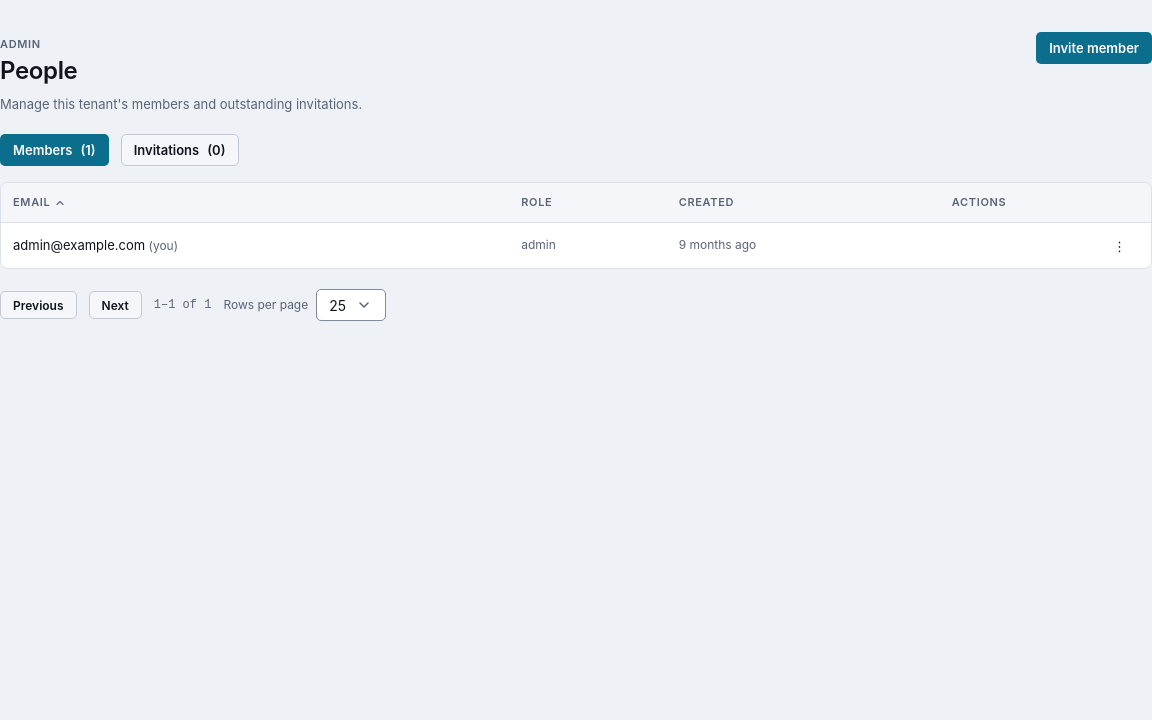
Scenario: PeoplePage › surfaces a legible reason when demoting the last admin is refused, guessing nothing client-side
Check: the text "admin@example.com" is shown, box x1=13 y1=237 x2=145 y2=253
Step 1. Click the button named "Actions for admin@example.com" → point(1120, 246), box x1=1100 y1=232 x2=1139 y2=260
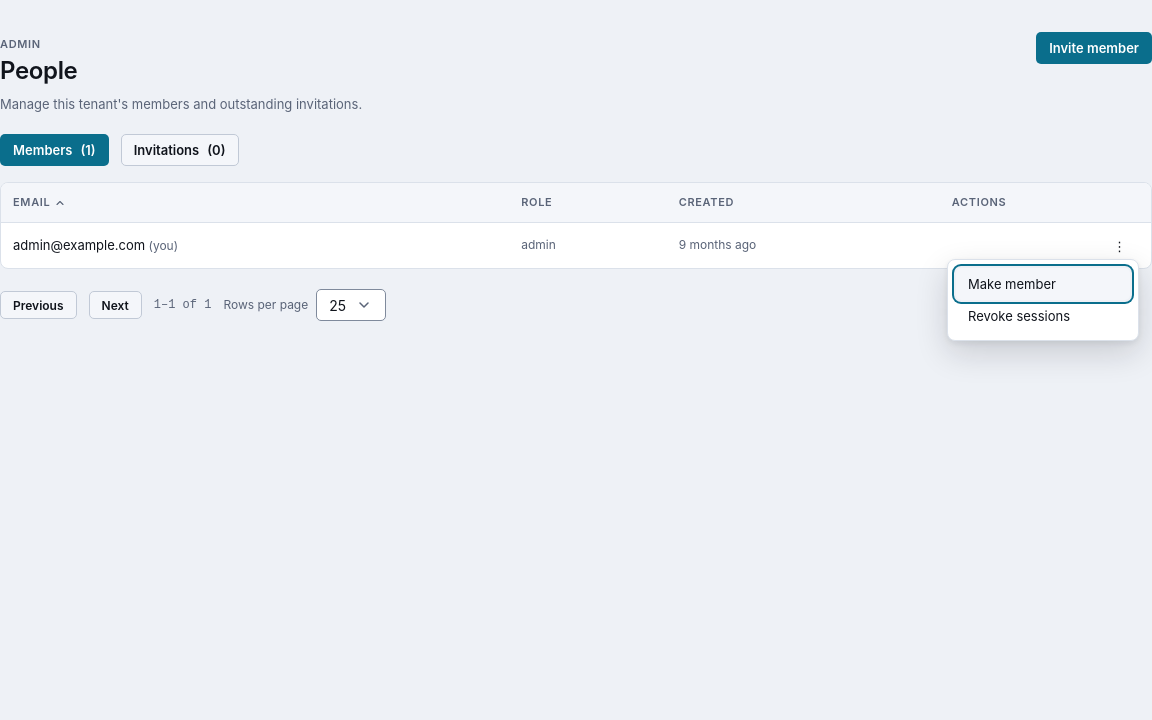
Step 2. Click the menu item "Make member" → point(1043, 284), box x1=956 y1=268 x2=1130 y2=300
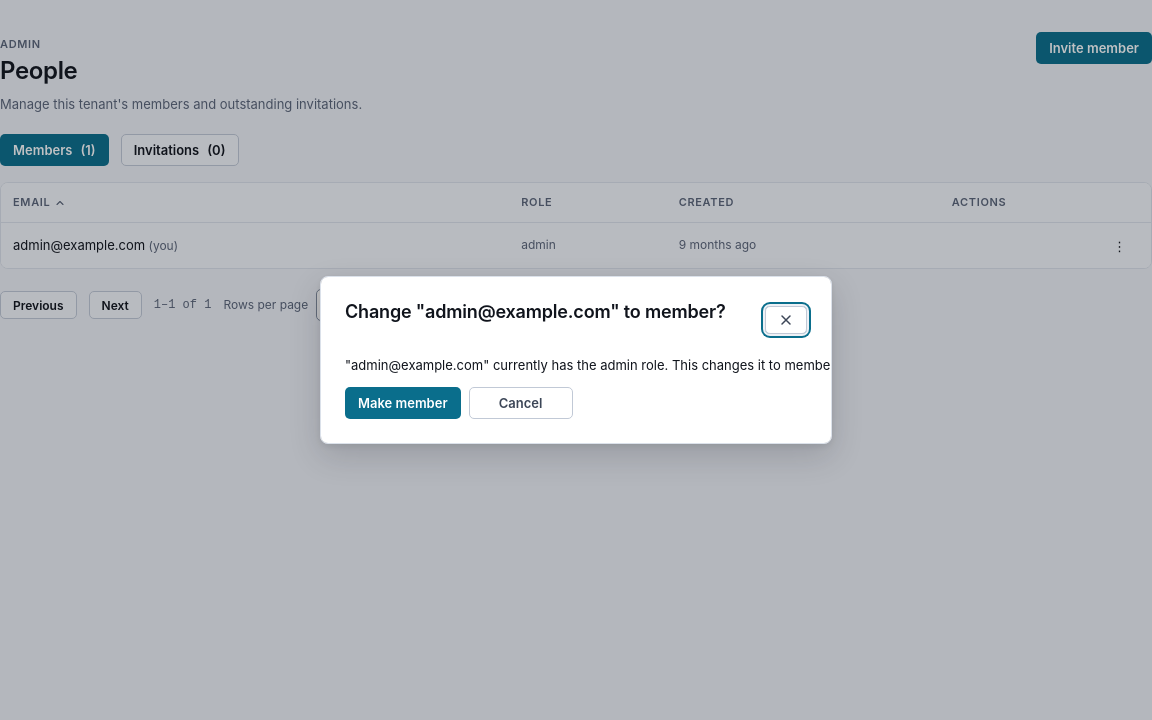
Step 3. Click the button "Make member" → point(403, 403), box x1=345 y1=387 x2=461 y2=419
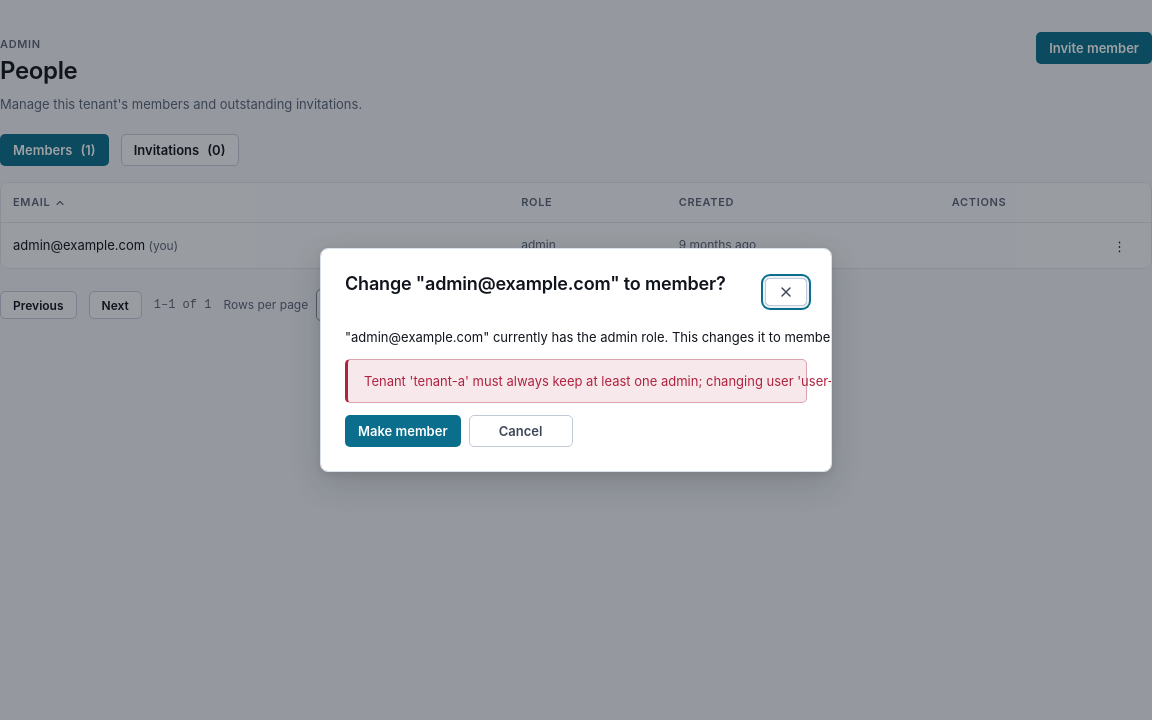
Check: the heading "Change \"admin@example.com\" to member?" is shown, box x1=345 y1=273 x2=726 y2=296
Check: the message shows "Tenant 'tenant-a' must always keep at least one admin; changing user 'user-1' to 'member' would leave none", box x1=364 y1=373 x2=832 y2=389
